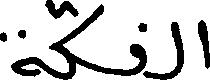ا: (197, 18, 209, 70)
ة: (0, 28, 40, 78)
ف: (128, 21, 147, 79)
ك: (48, 0, 103, 79)
ل: (169, 20, 184, 79)
